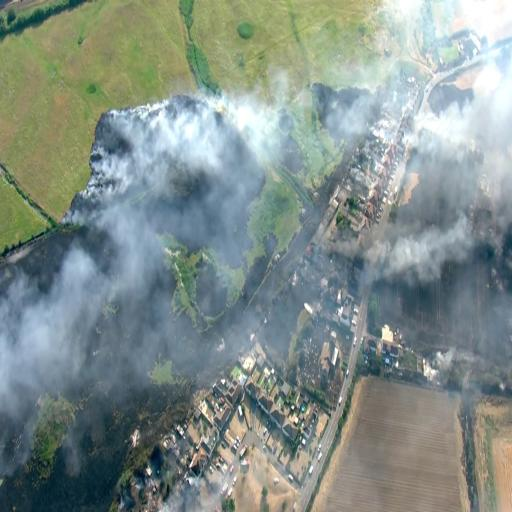smoke: (389, 244, 447, 290)
